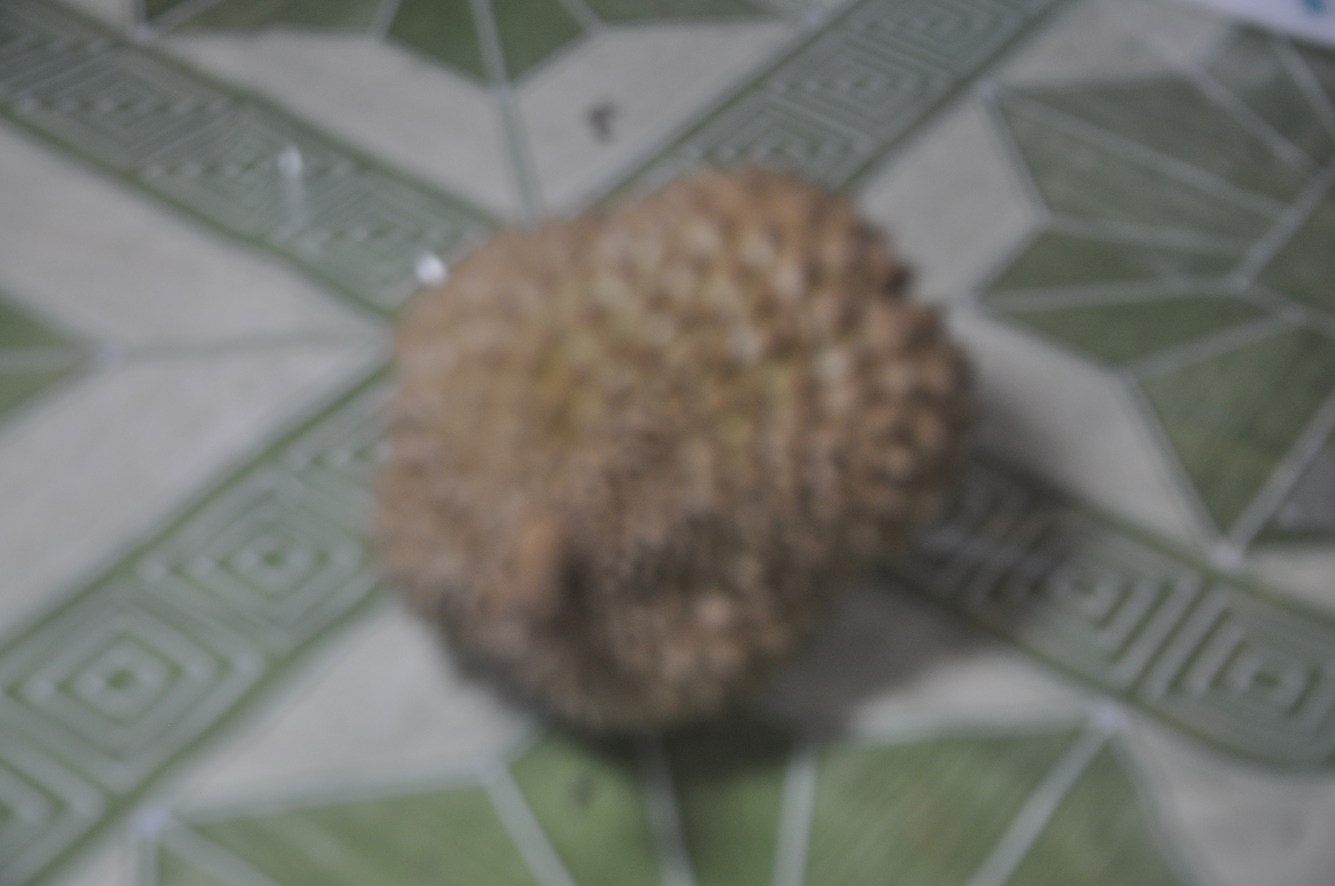mature: (350, 100, 999, 787)
